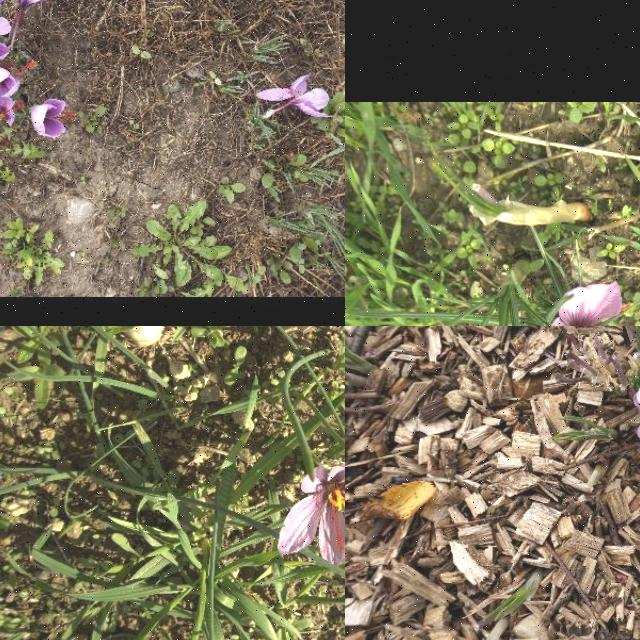flower: (278, 447, 345, 572), (542, 282, 640, 326), (256, 74, 334, 118), (28, 98, 78, 138)
overlap: (0, 0, 36, 165)
